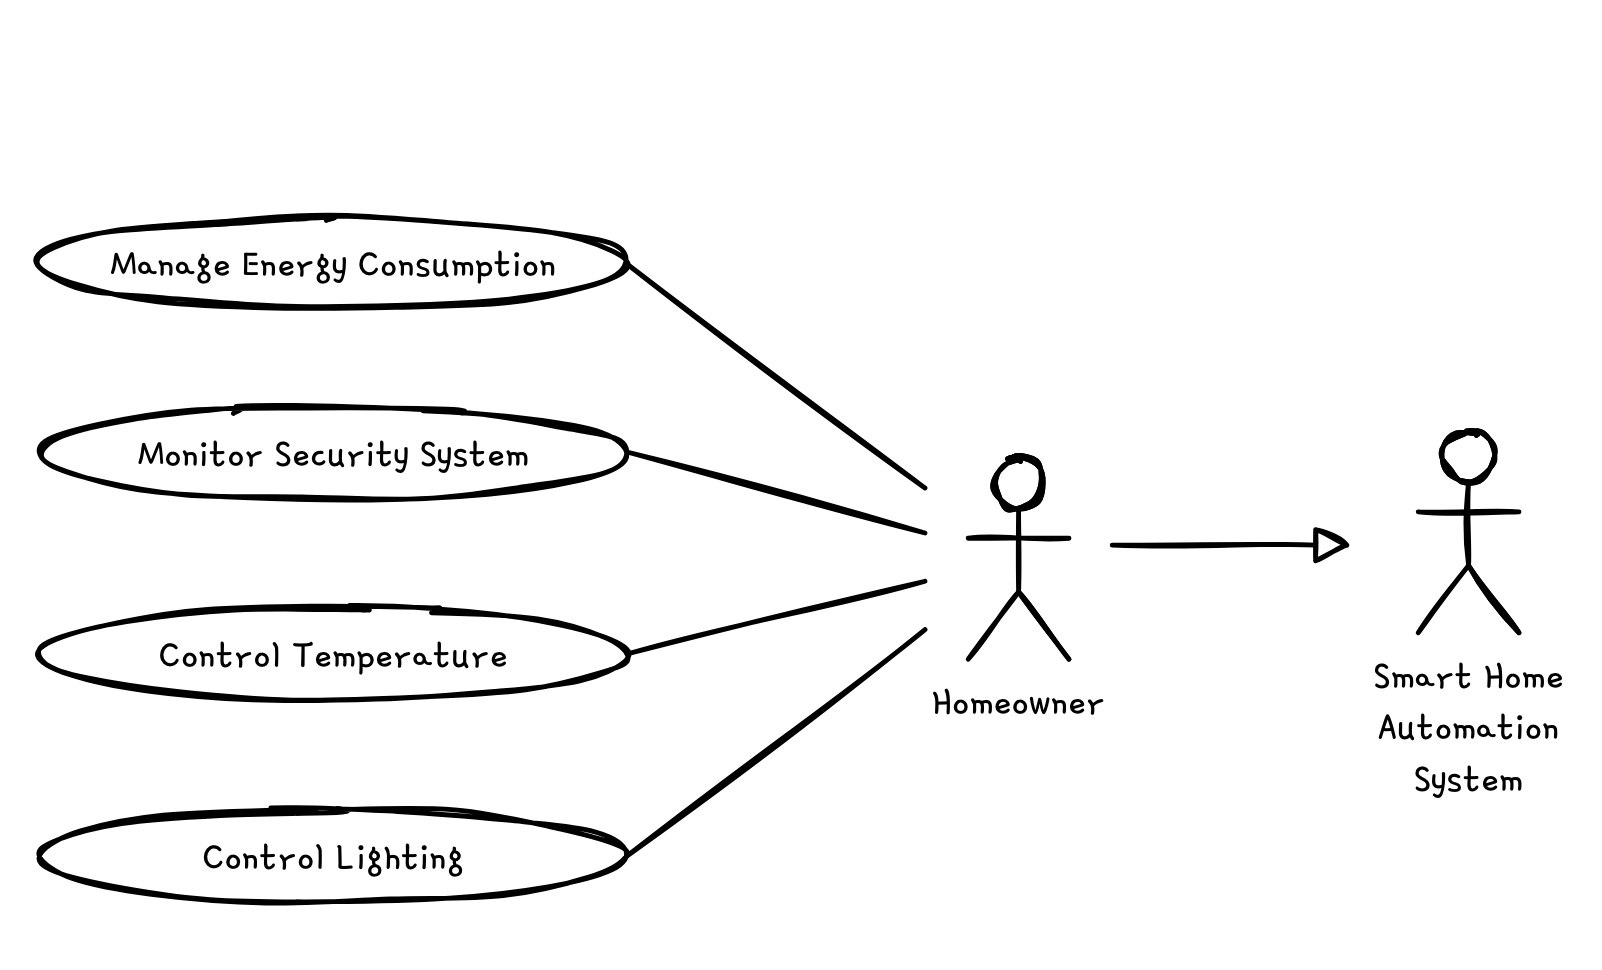actor: (959, 451, 1078, 666), (1414, 427, 1529, 638)
association: (628, 622, 930, 854), (629, 263, 931, 491), (629, 446, 929, 535), (629, 575, 931, 652)
generalization: (1099, 509, 1370, 780)
text: (1364, 657, 1572, 800), (100, 244, 564, 283), (125, 435, 536, 476), (152, 635, 514, 677), (197, 838, 476, 880), (928, 684, 1110, 723)
use_case: (35, 398, 632, 504), (33, 601, 635, 706), (32, 210, 629, 315), (33, 805, 628, 909)
